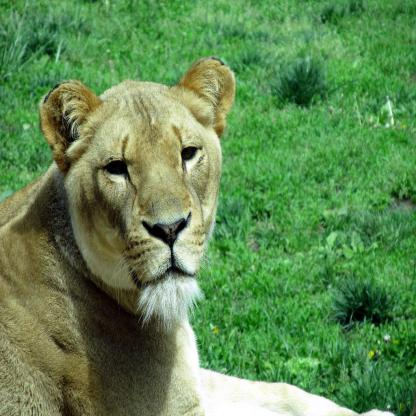lion: (32, 61, 240, 335)
